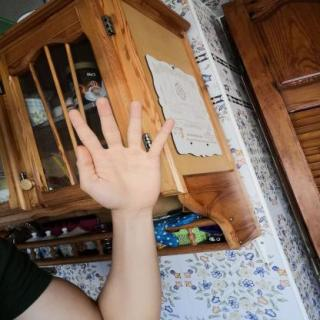SHEEN: (60, 92, 184, 216)
